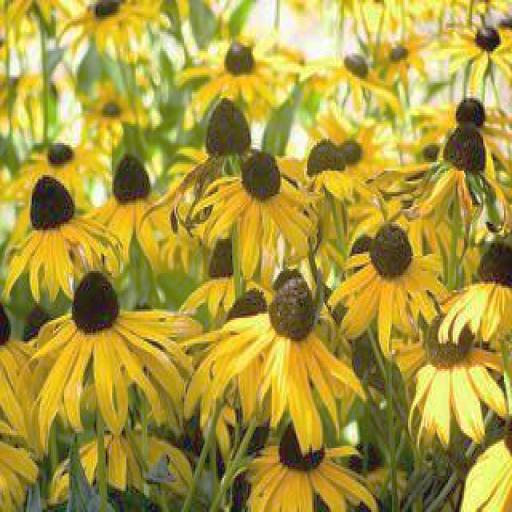sunflower: (196, 273, 374, 446), (28, 275, 206, 433), (205, 147, 328, 271), (405, 307, 512, 440), (336, 222, 443, 339), (406, 119, 512, 237), (240, 422, 378, 512), (178, 36, 302, 111), (84, 152, 178, 250), (433, 8, 512, 89), (314, 38, 403, 102), (13, 136, 109, 186)
